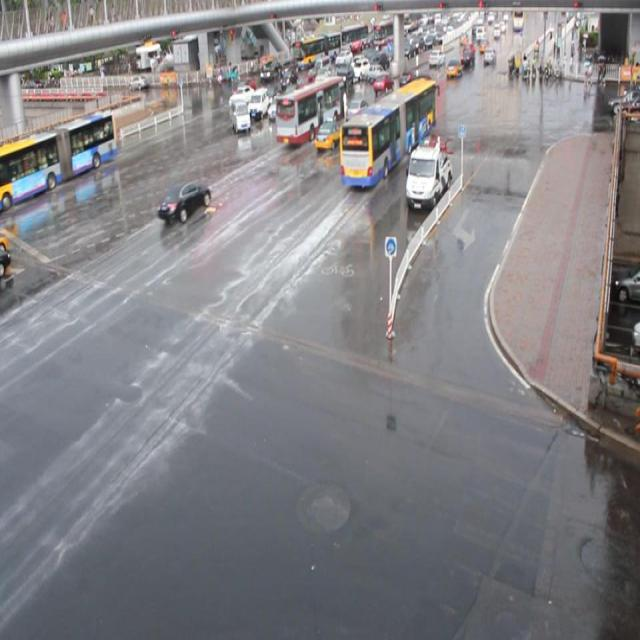bus: (403, 142, 450, 210)
car: (156, 180, 211, 222), (314, 118, 343, 150), (344, 97, 371, 121), (292, 90, 314, 116), (304, 80, 325, 106), (228, 85, 255, 105), (260, 83, 282, 107), (266, 96, 288, 119), (279, 82, 299, 106), (372, 73, 394, 94), (232, 77, 256, 96), (291, 75, 311, 97), (280, 70, 298, 88)
truck: (244, 88, 266, 120), (229, 98, 249, 132)
van: (1, 110, 118, 212), (338, 78, 436, 188), (274, 74, 344, 144)
